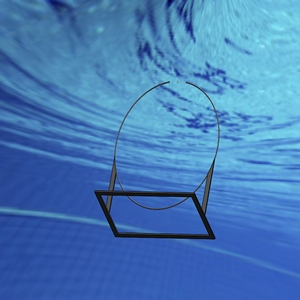circle: (91, 76, 221, 240)
